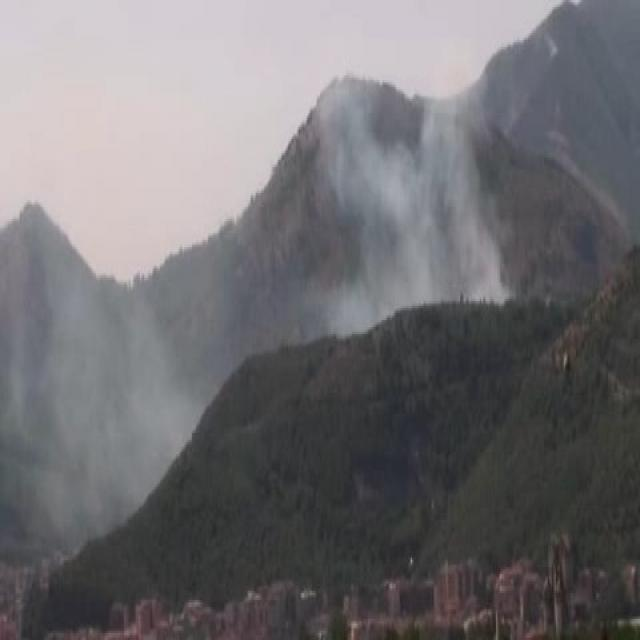smoke: (297, 76, 495, 332), (31, 277, 214, 477)
